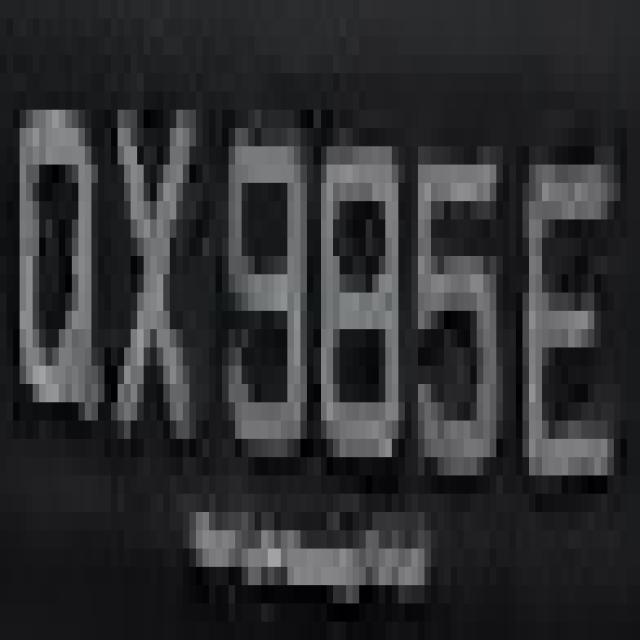5: (405, 91, 516, 567)
8: (287, 91, 405, 512)
9: (202, 73, 314, 530)
E: (509, 73, 614, 530)
Q: (7, 92, 111, 476)
X: (98, 18, 209, 494)
